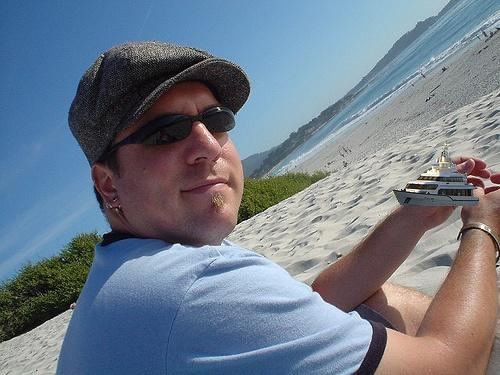tampered: (393, 141, 479, 206)
